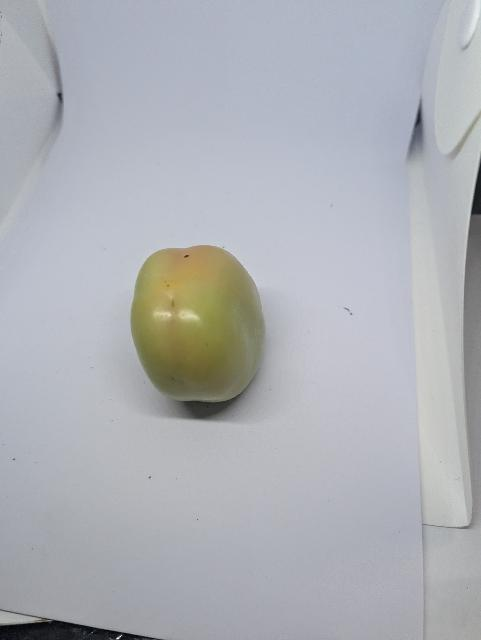breaker: (129, 243, 269, 406)
